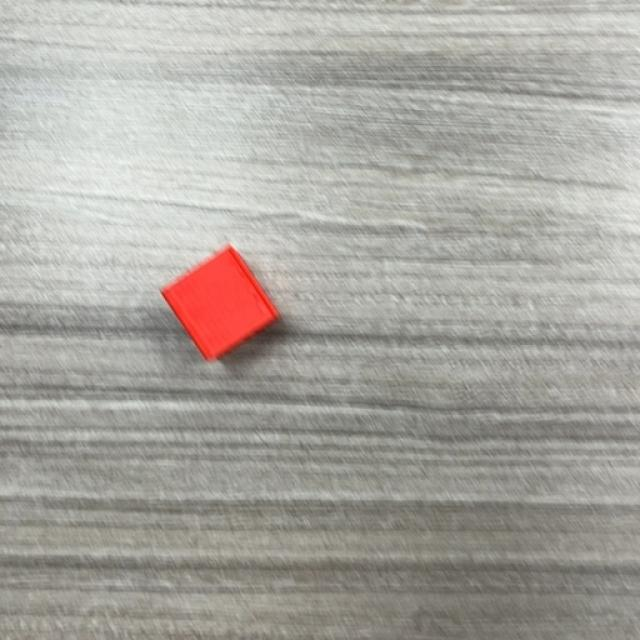Rojo: (160, 246, 281, 361)
